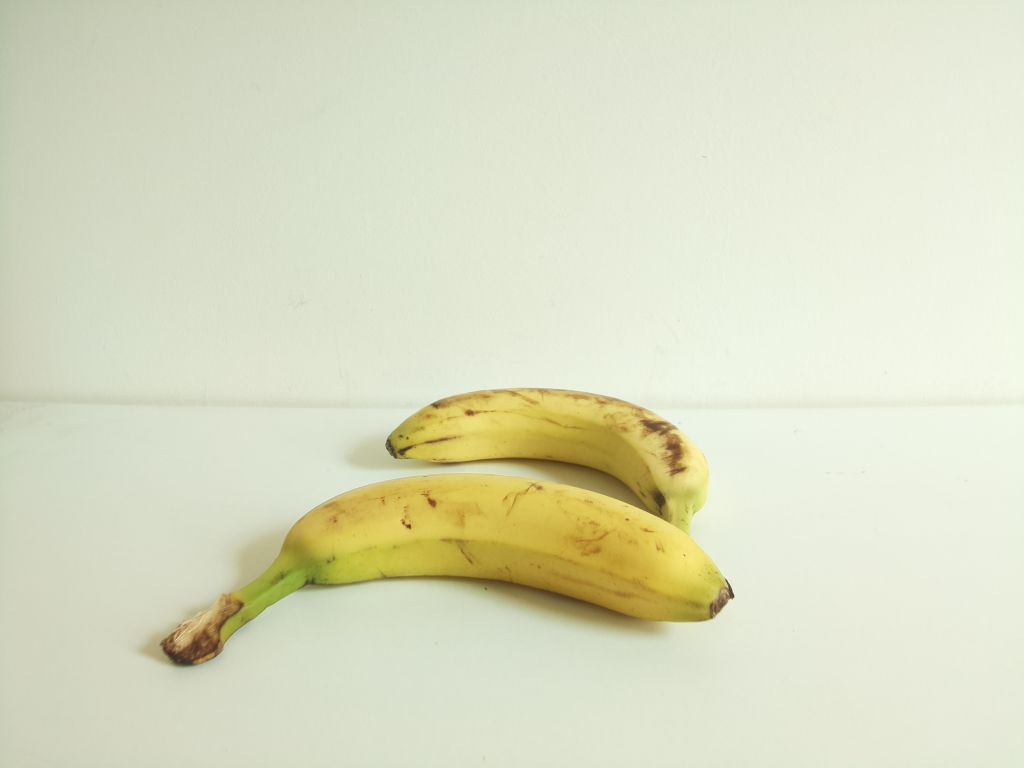banana: (154, 466, 736, 670), (384, 384, 710, 528)
